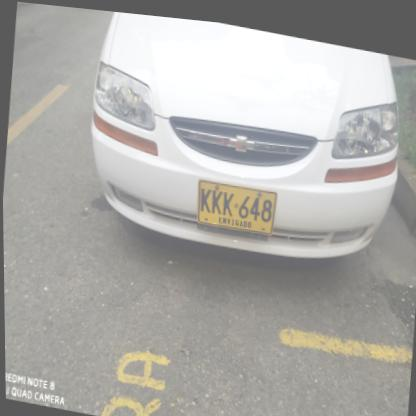placa: (191, 170, 279, 237)
